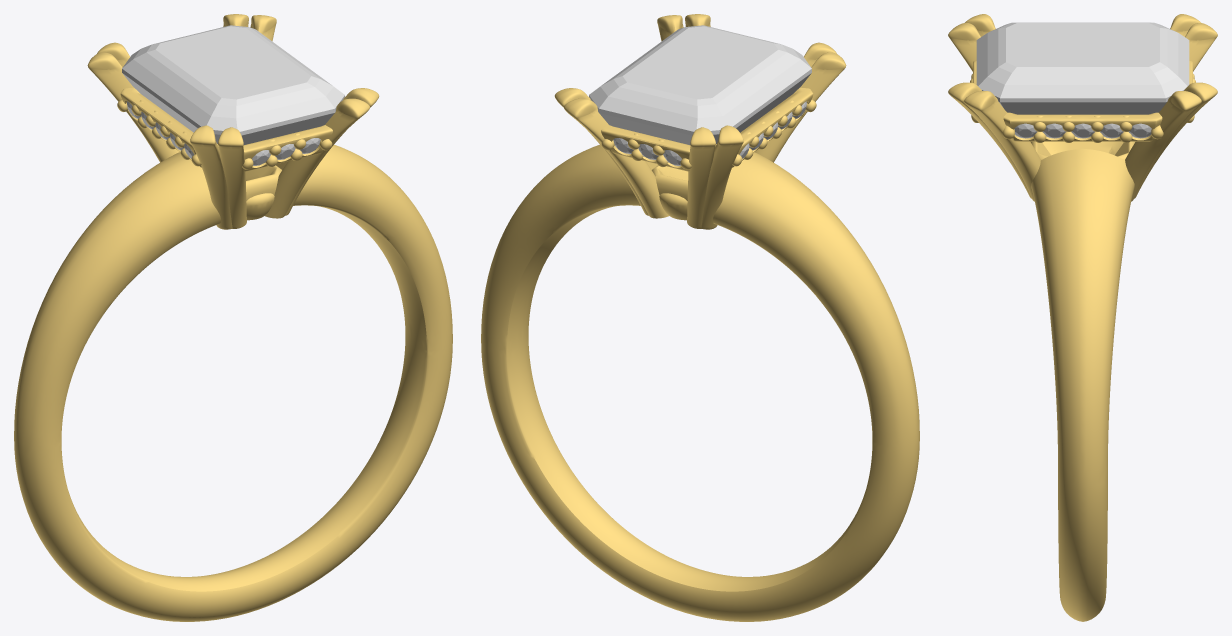
Rendered from CamYGmoretaper_blender.glb.
3 renders of one model, left to right at view 1: azimuth 30°, elevation 25°; view 2: azimuth 150°, elevation 25°; view 3: azimuth 270°, elevation 25°, orthographic.
Parts seen in each view (by area): view 1: V5 wider YG for 3d model, V4 Cam split band dia for 3d model.016; view 2: V5 wider YG for 3d model, V4 Cam split band dia for 3d model.016; view 3: V5 wider YG for 3d model, V4 Cam split band dia for 3d model.016.
Part boxes in pixels (<box>): V5 wider YG for 3d model: <box>14,14,452,621</box>; V4 Cam split band dia for 3d model.016: <box>122,25,344,144</box>; V5 wider YG for 3d model: <box>481,14,919,621</box>; V4 Cam split band dia for 3d model.016: <box>589,25,811,144</box>; V5 wider YG for 3d model: <box>948,14,1217,621</box>; V4 Cam split band dia for 3d model.016: <box>976,22,1189,114</box>.
Bounding box in the file's own units: 20.1 × 24.44 × 10.8.
